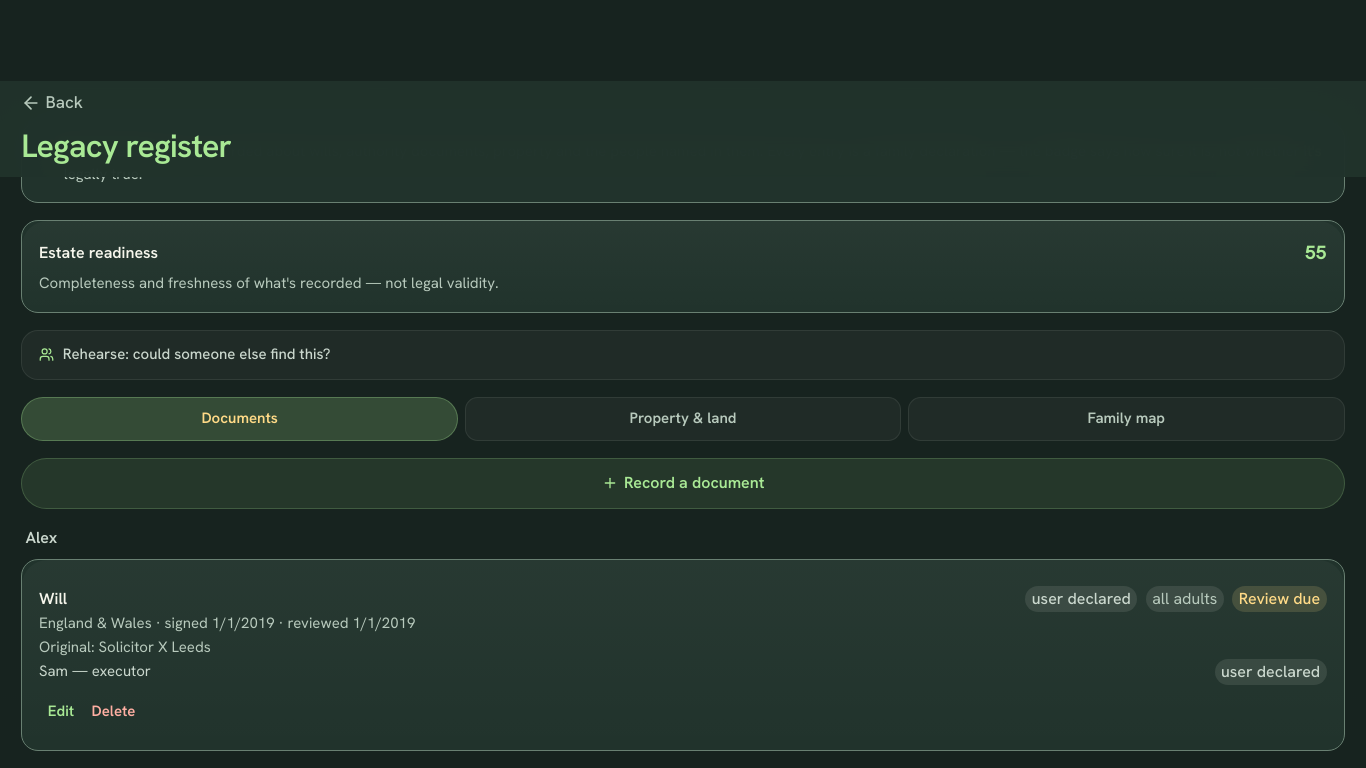
LegacyClient › shows the medical-details helper under every notes field
The image size is (1366, 768).
Expected: the text "will" is shown, [39,587,67,608]
Note: Open the document sheet — its notes textarea carries the helper.
Click the button "Record a document".
click(683, 483)  # box [21,458,1345,509]
(page scrolled)
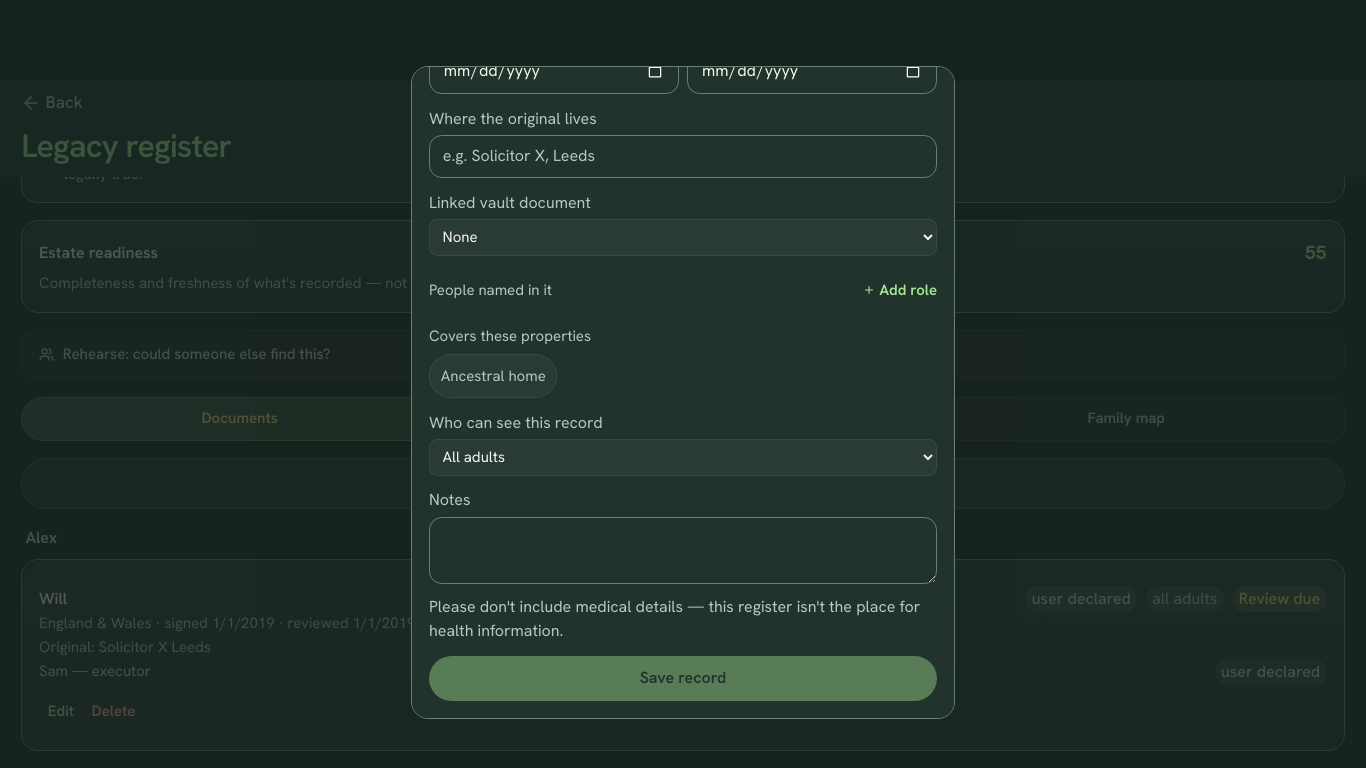
Expected: the text "Please don't include medical details" is shown, [429,596,920,641]
